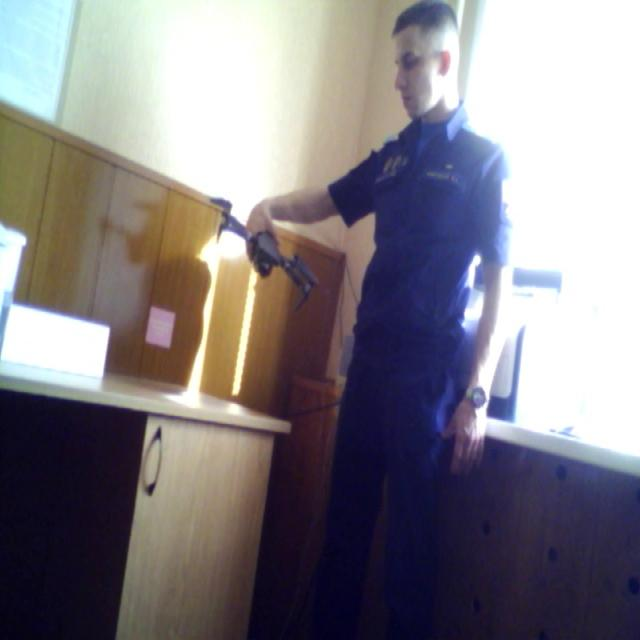drone: (199, 166, 322, 311)
